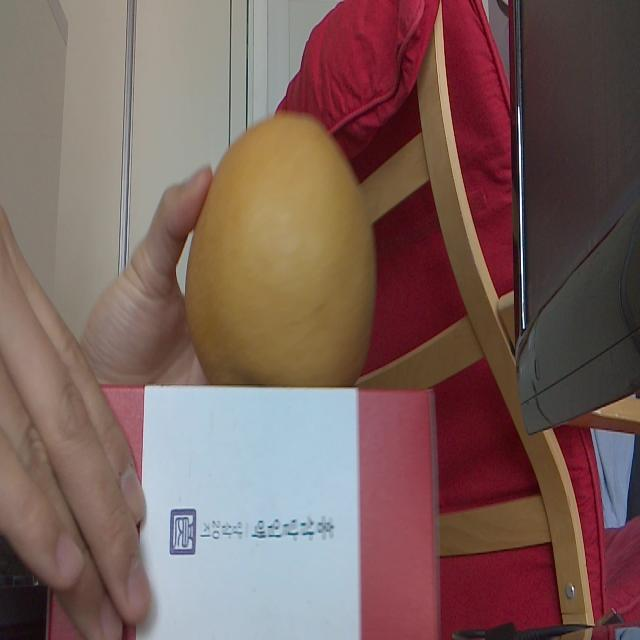pear: (185, 111, 377, 384)
